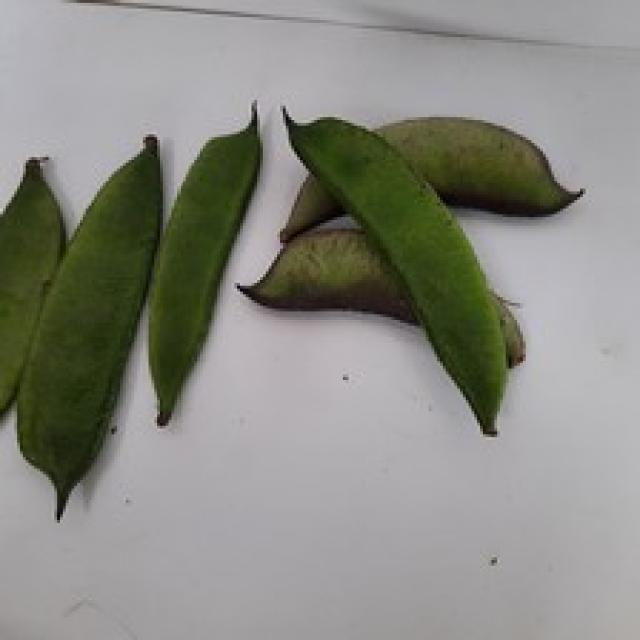Bean: (277, 103, 512, 434), (14, 131, 163, 520), (146, 97, 260, 426), (0, 154, 66, 434)
